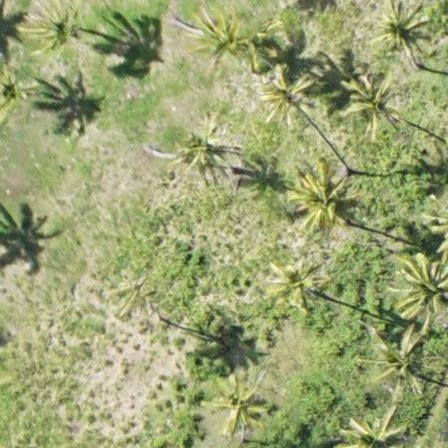palm_tree: (337, 67, 403, 137), (169, 119, 240, 182), (203, 374, 272, 437), (370, 326, 434, 387), (261, 256, 327, 311), (390, 259, 448, 320), (194, 10, 250, 70), (252, 63, 308, 123), (293, 168, 348, 228), (363, 1, 422, 56), (21, 1, 83, 51)
